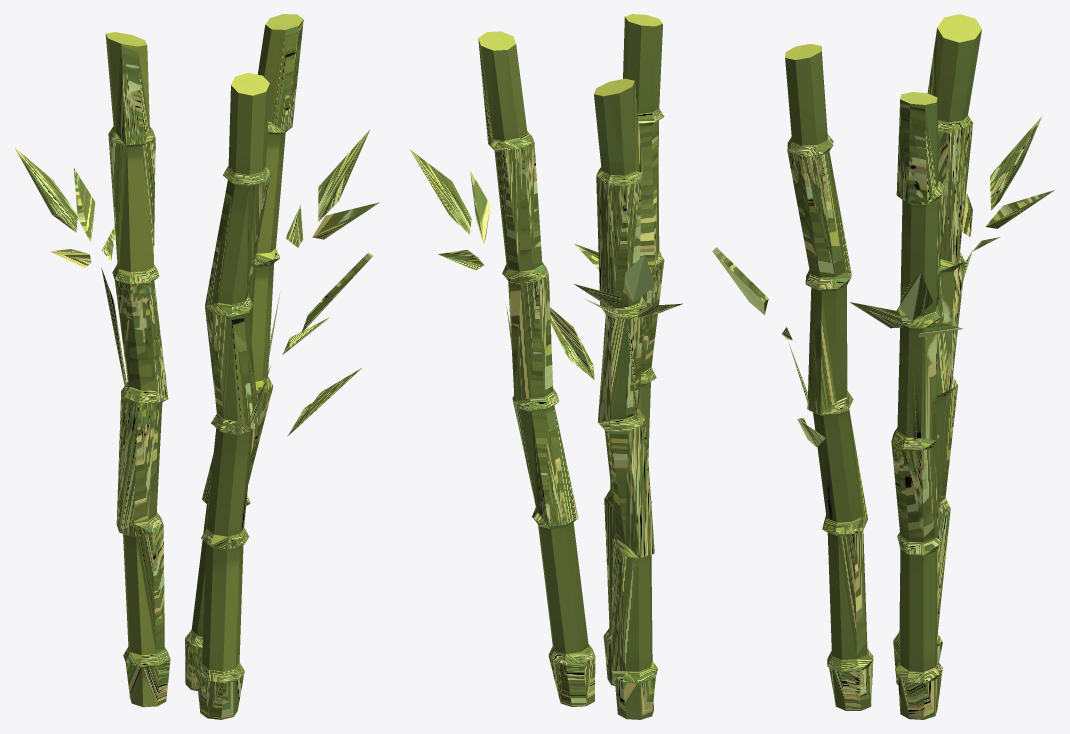
The model's file is bamboo-small.glb.
3 renders of one model, left to right at view 1: azimuth 30°, elevation 25°; view 2: azimuth 150°, elevation 25°; view 3: azimuth 270°, elevation 25°, orthographic. The views are drawn at different scales.
Visible parts, largest first — view 1: bamboo; view 2: bamboo; view 3: bamboo.
Part boxes in pixels (x1=…): bamboo: x1=15, y1=14, x2=379, y2=719; bamboo: x1=409, y1=14, x2=682, y2=719; bamboo: x1=712, y1=14, x2=1054, y2=719.
Bounding box in the file's own units: 0.8907 × 1.85 × 0.8731.
Materials: 1 (1 with a texture image).
